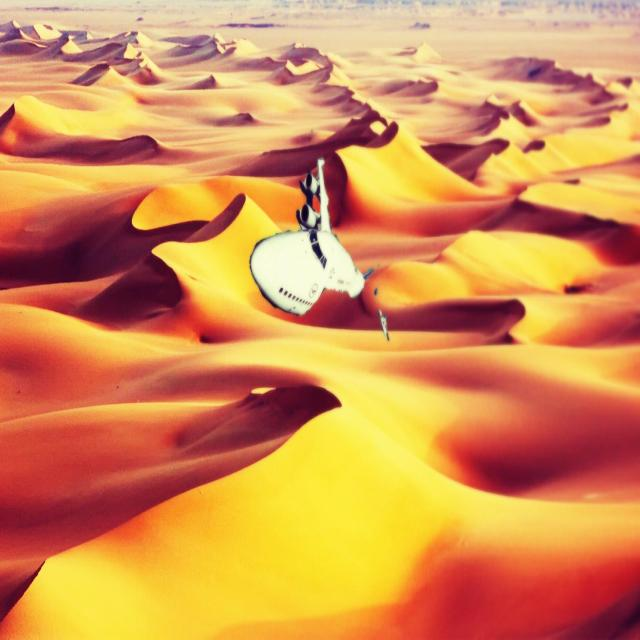airplane: (249, 154, 374, 318)
